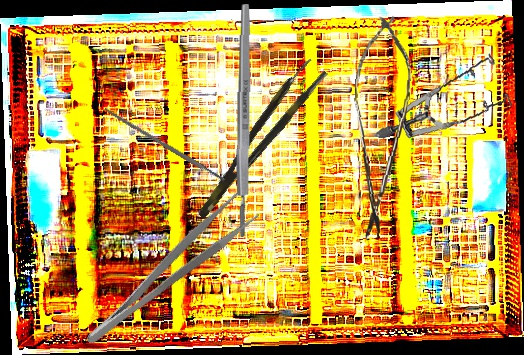Dressing Forceps: (70, 188, 263, 350)
Micro Scissor: (346, 10, 415, 245)
Scalpel Handle: (103, 106, 226, 184), (234, 3, 254, 238)
Speculum: (375, 39, 519, 156)
Tissue Forceps: (184, 56, 329, 221)
